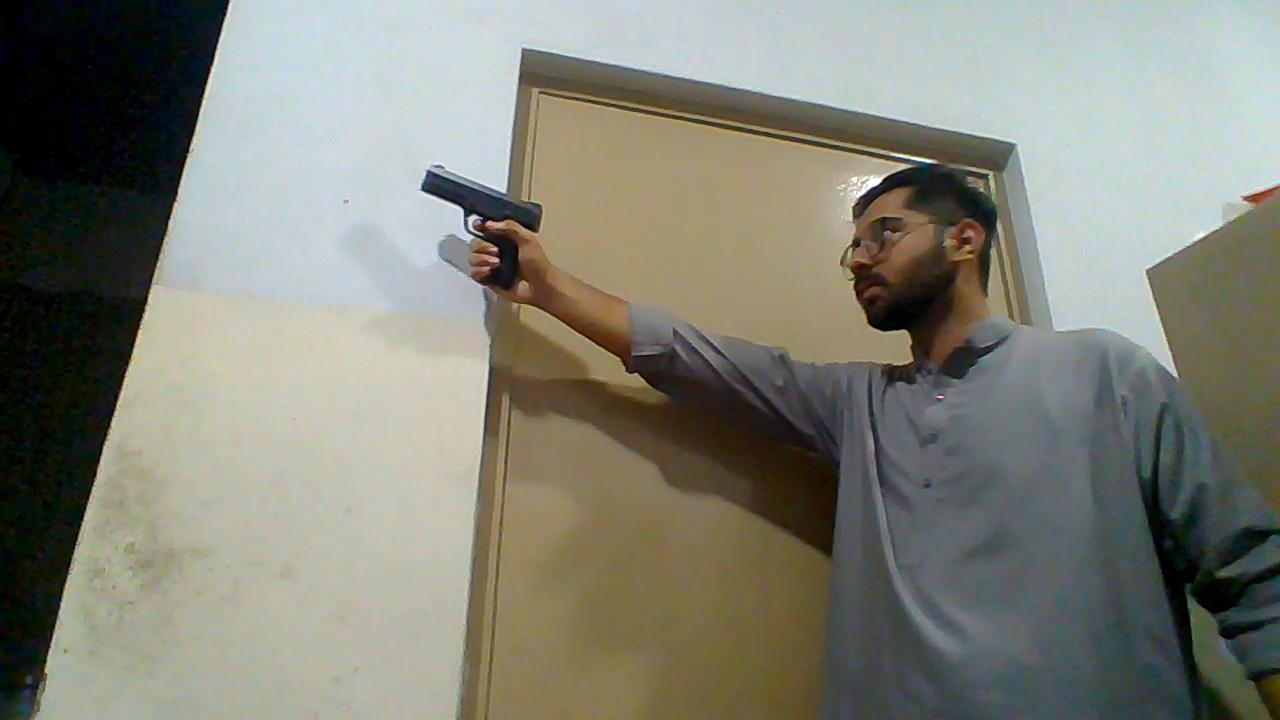criminal: (420, 162, 1280, 720)
weapon: (419, 162, 543, 288)
